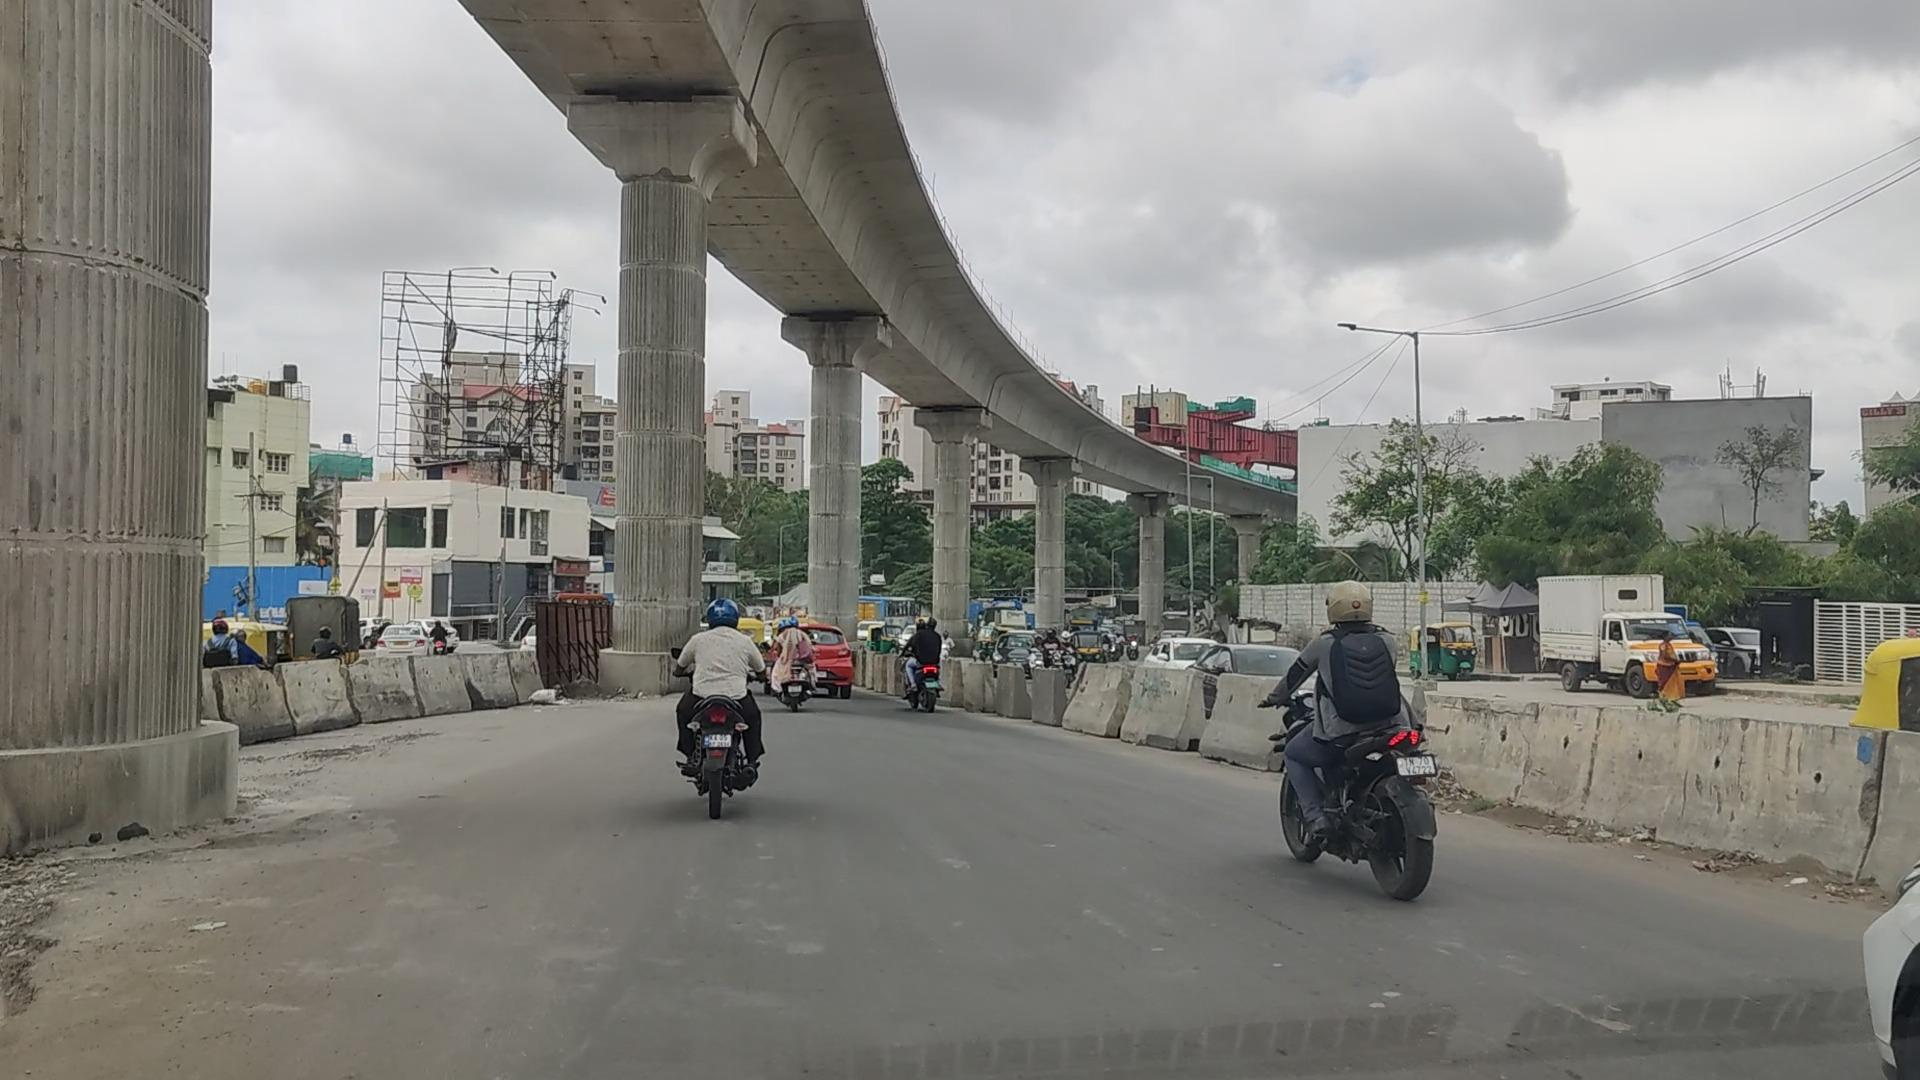LMV: (1269, 582, 1439, 887), (676, 596, 758, 803), (897, 615, 948, 717), (773, 620, 824, 715)
RoadDamages: (0, 855, 152, 1063), (272, 719, 427, 804)
